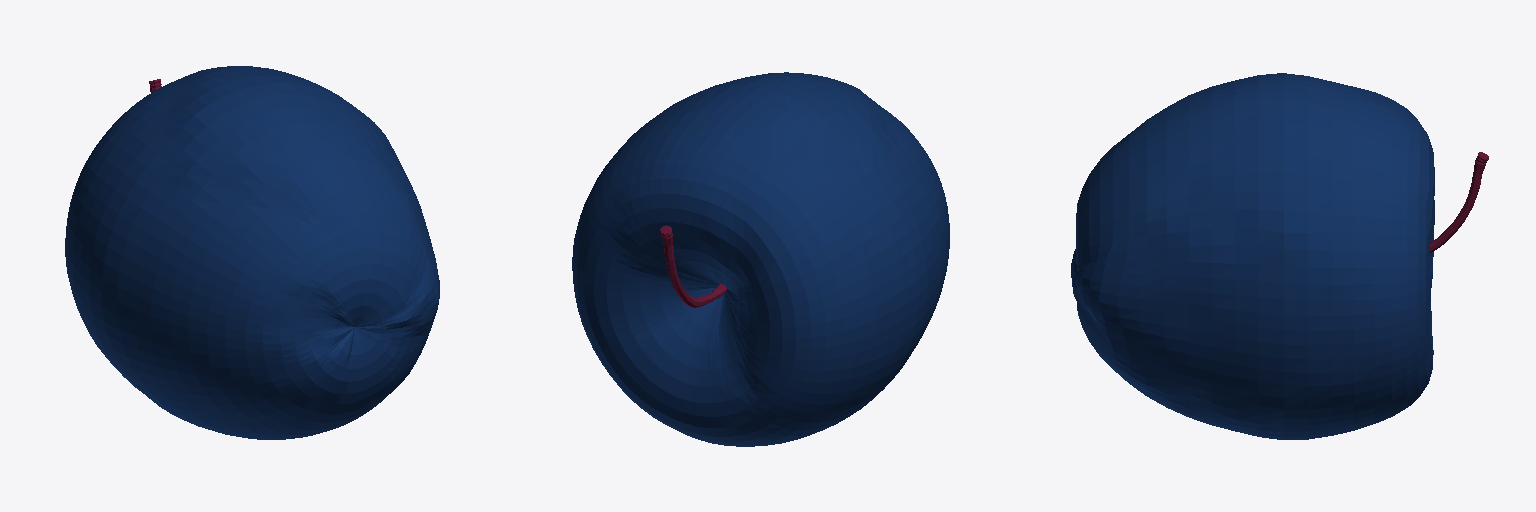
The model's file is manzana.obj.
3 renders of one model, left to right at view 1: azimuth 30°, elevation 25°; view 2: azimuth 150°, elevation 25°; view 3: azimuth 270°, elevation 25°, orthographic.
Parts seen in each view (by area): view 1: object; view 2: object, apple_skin; view 3: object, apple_skin.
Boxes of the visible parts, box(x1,y1,x2,y2) form: object: box(65, 66, 439, 439); object: box(572, 72, 949, 446); apple_skin: box(660, 225, 726, 307); object: box(1071, 73, 1434, 439); apple_skin: box(1430, 152, 1488, 252).
Bounding box in the file's own units: 0.615 × 0.6486 × 0.7296.